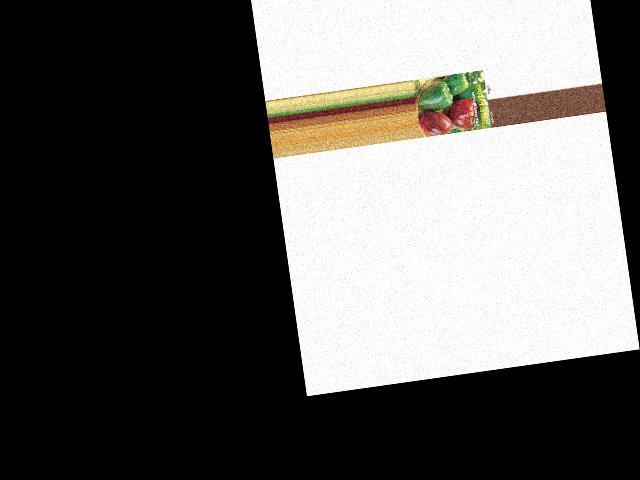bell_pepper: (438, 70, 471, 95)
